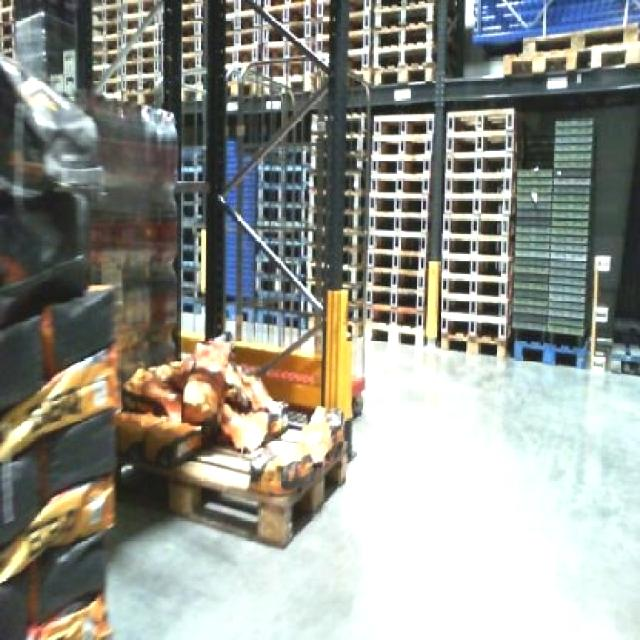pallets: (114, 337, 343, 543)
